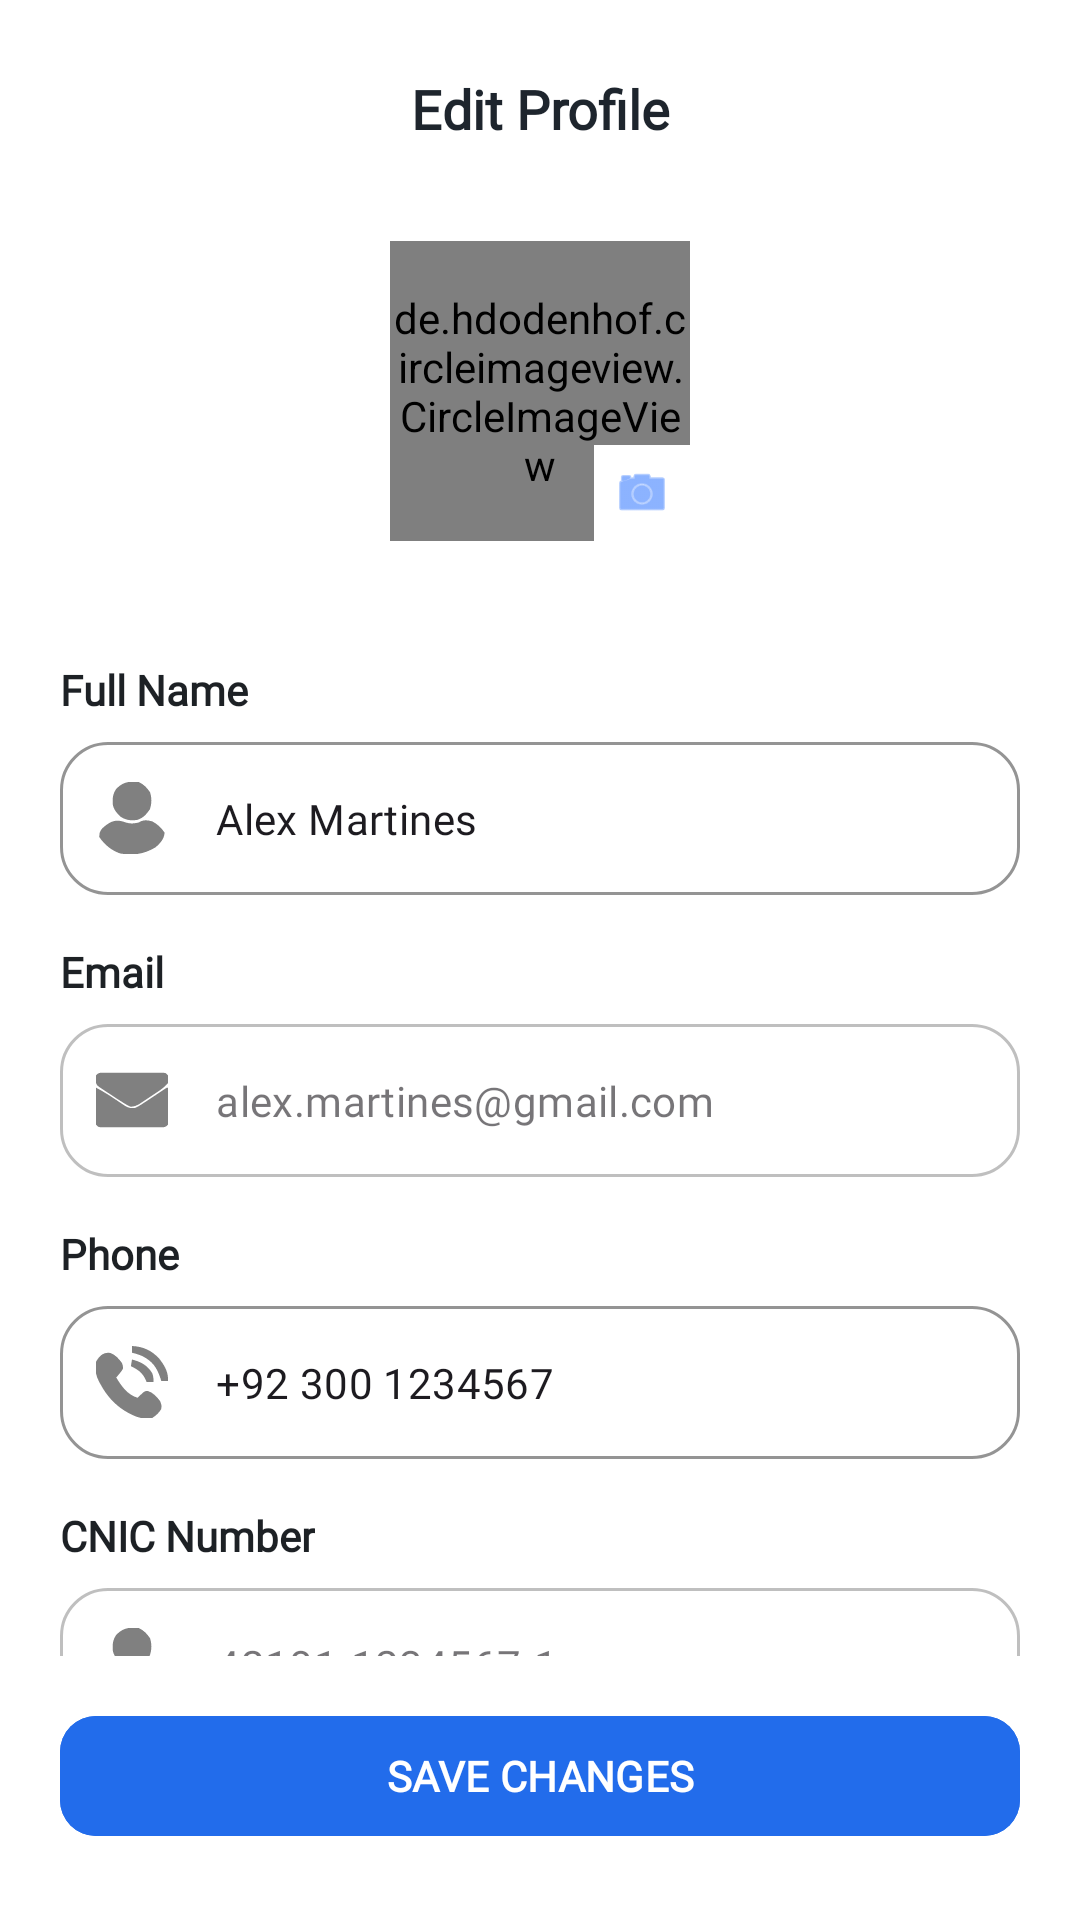

Named icons in this screenshot (1080px x 1920px) and their centers, [x,y]:
camera: [642,492]
